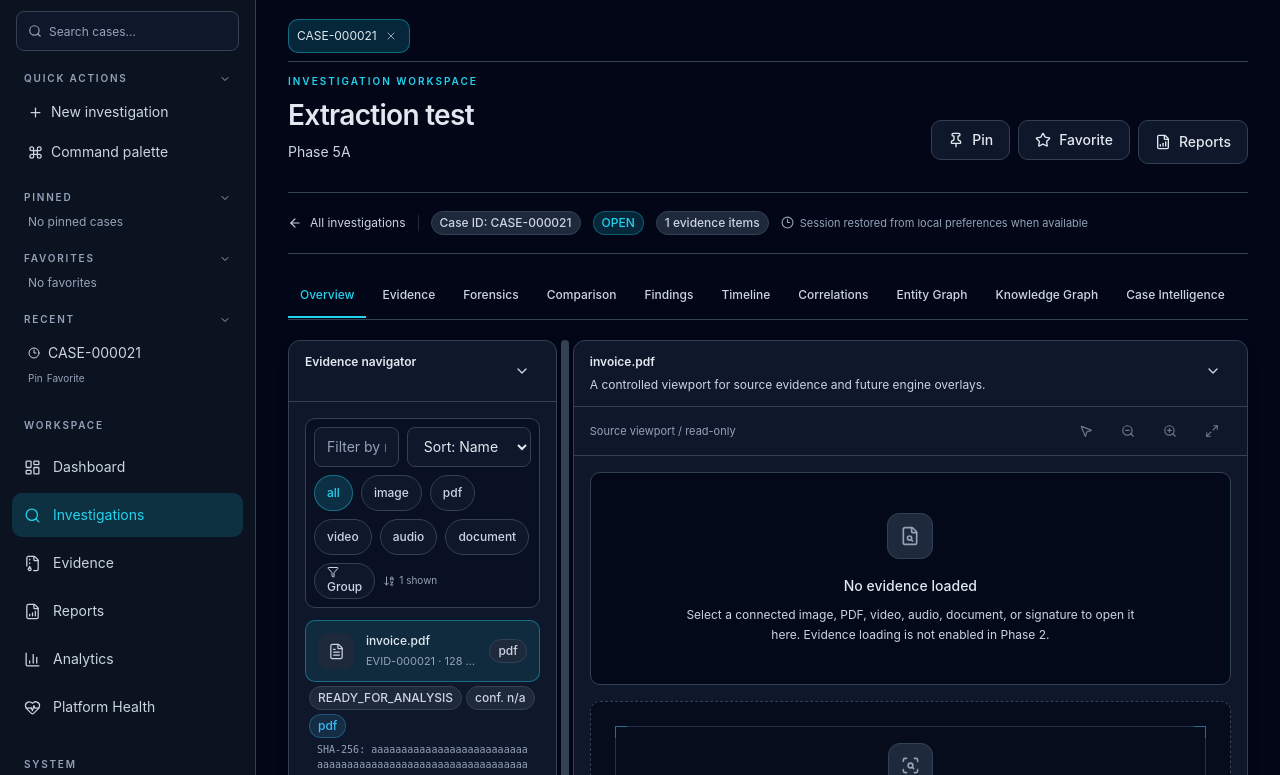
Phase 5A extraction workspace › displays extraction status, text, and derived artifacts
The width and height of the screenshot is (1280, 775).
Click the tab "Evidence": {"x": 409, "y": 296} [370,274,447,318]
(page scrolled)
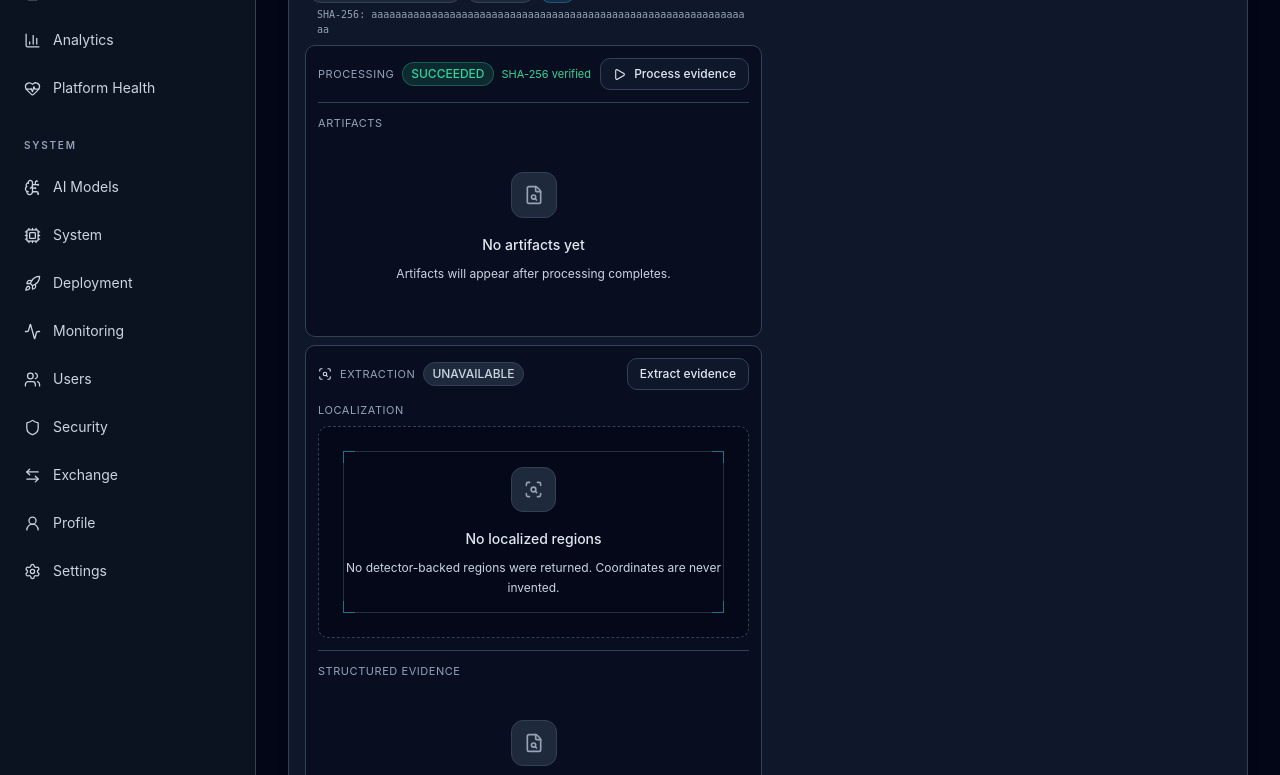
Click the button "Extract evidence": {"x": 688, "y": 374} [627,358,749,390]
(page scrolled)
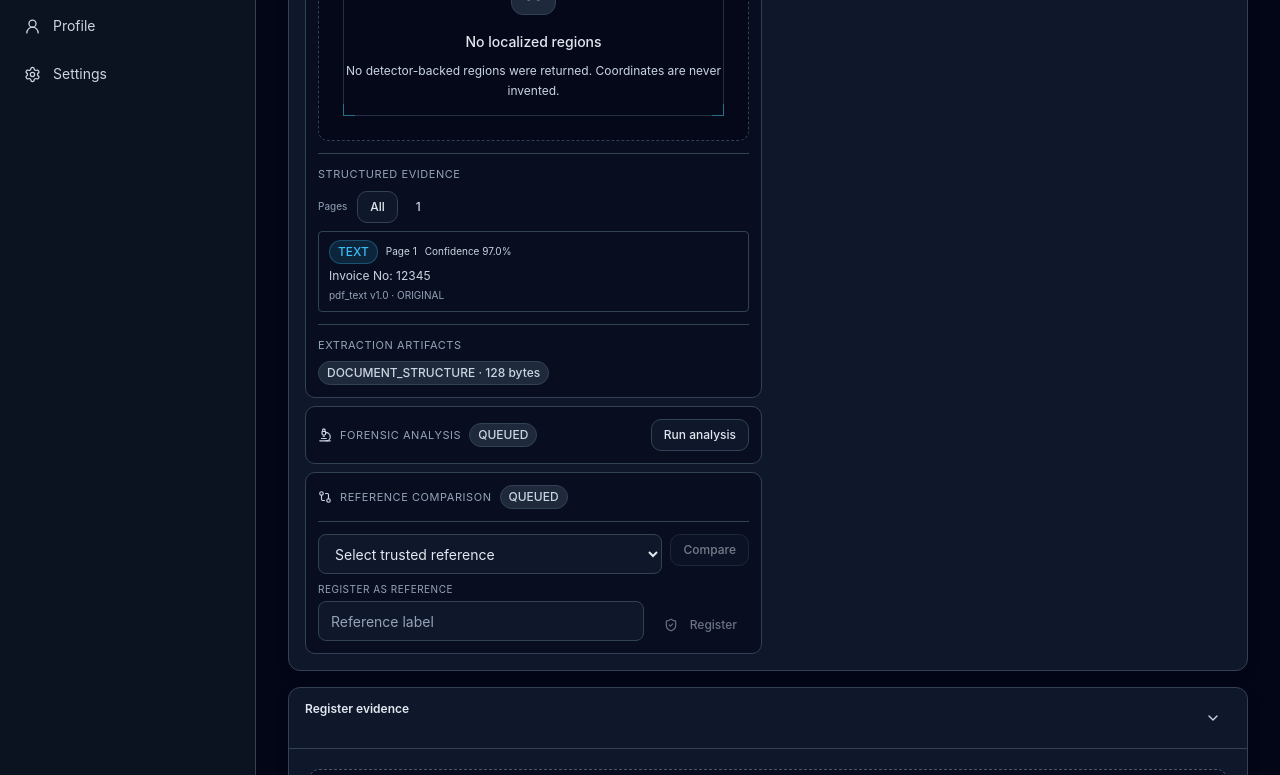
Now the text "Invoice No: 12345" is shown, box [329,268,430,283]
Now the text "DOCUMENT_STRUCTURE · 128 bytes" is shown, box [318,361,549,385]
